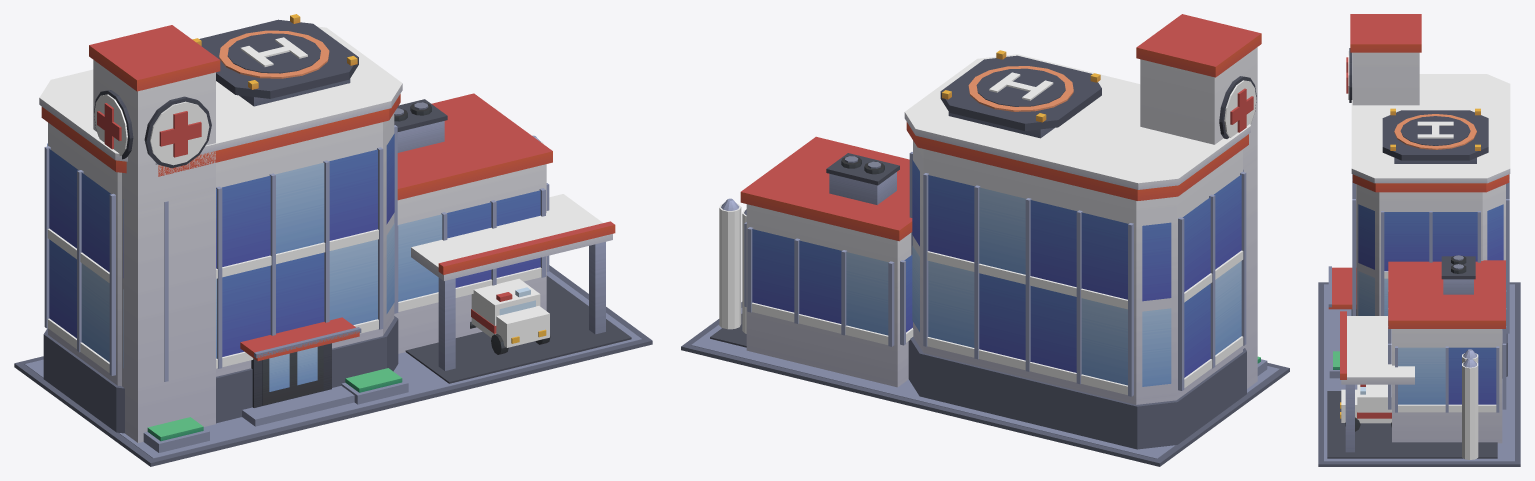
The model's file is clinic_center_2x1.glb.
3 renders of one model, left to right at view 1: azimuth 30°, elevation 25°; view 2: azimuth 150°, elevation 25°; view 3: azimuth 270°, elevation 25°, orthographic. The views are drawn at different scales.
Visible parts, largest first — view 1: clinic_center_2x1; view 2: clinic_center_2x1; view 3: clinic_center_2x1.
Part boxes in pixels (x1,y1,x2,y2): clinic_center_2x1: (14,14,652,466); clinic_center_2x1: (681,14,1289,466); clinic_center_2x1: (1318,14,1520,466).
Bounding box in the file's own units: 3.74 × 2.62 × 1.76.
Materials: 1 (1 with a texture image).
